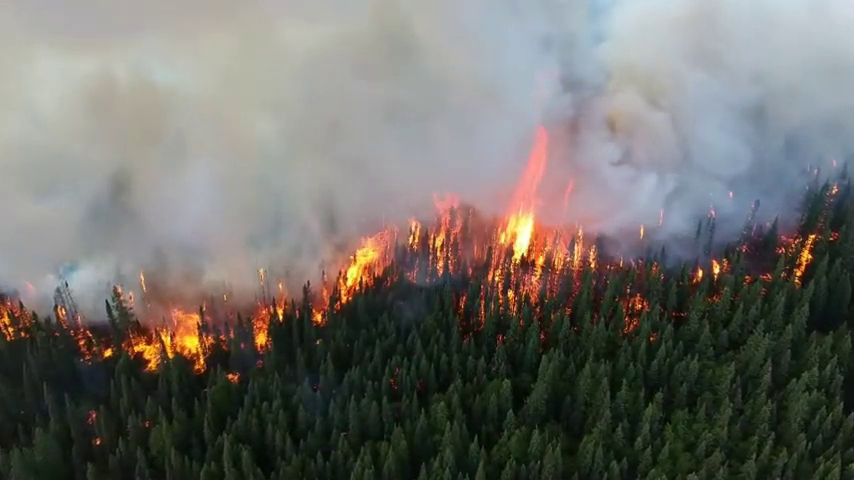forest_fire: (475, 127, 597, 306), (312, 228, 398, 324), (123, 307, 224, 372), (406, 197, 461, 273), (250, 284, 286, 352), (71, 326, 118, 358), (792, 234, 816, 285), (0, 302, 33, 338), (623, 294, 648, 330), (226, 372, 240, 382)
